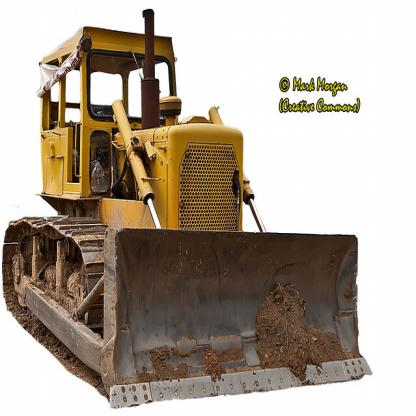bull_dozer/loader/grader: (6, 16, 374, 405)
